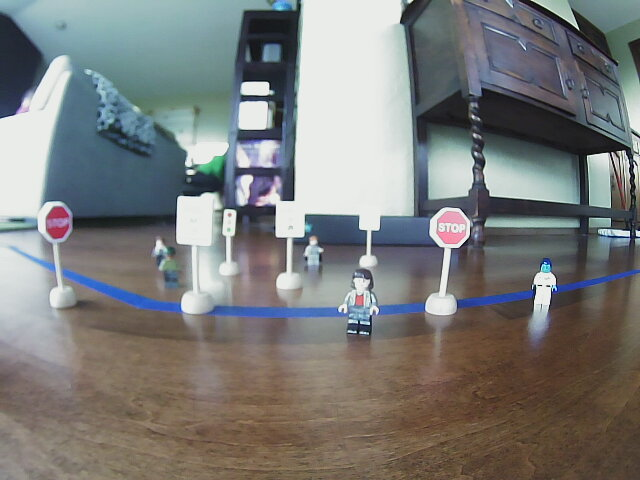SpeedLimit25: (174, 196, 214, 249), (358, 196, 381, 233)
SpeedLimit35: (274, 200, 304, 240)
StopSign: (428, 207, 472, 251), (40, 197, 73, 244)
TrafficLight: (220, 207, 237, 244)
person: (336, 267, 382, 338), (530, 253, 559, 317), (146, 235, 165, 280), (162, 246, 180, 288), (307, 233, 324, 272)
